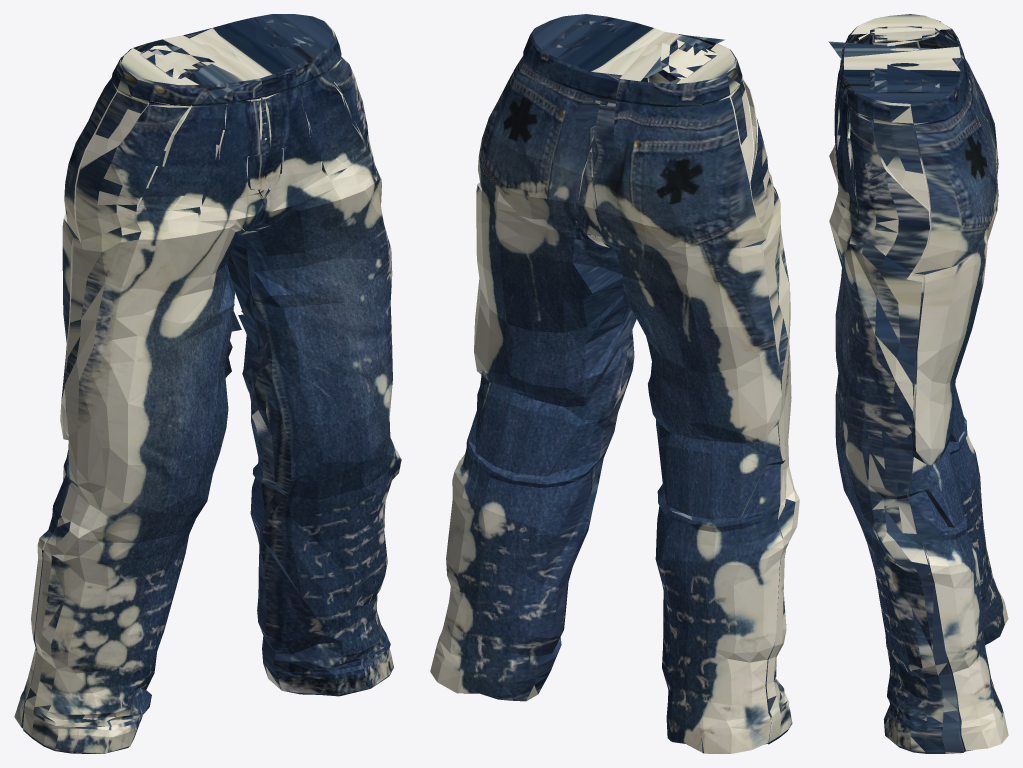
File: js_res_piecesmodels_jeans10.obj
The picture shows the model from 3 angles, left to right: view 1: azimuth 30°, elevation 25°; view 2: azimuth 150°, elevation 25°; view 3: azimuth 270°, elevation 25°; orthographic projection. The views are drawn at different scales.
Parts seen in each view (by area): view 1: Object60; view 2: Object60; view 3: Object60.
Boxes of the visible parts, x1,y1,x2,y2 form: Object60: (14, 14, 401, 753); Object60: (430, 14, 799, 753); Object60: (828, 14, 1008, 753).
Bounding box in the file's own units: 6.06 × 11.33 × 2.92.
